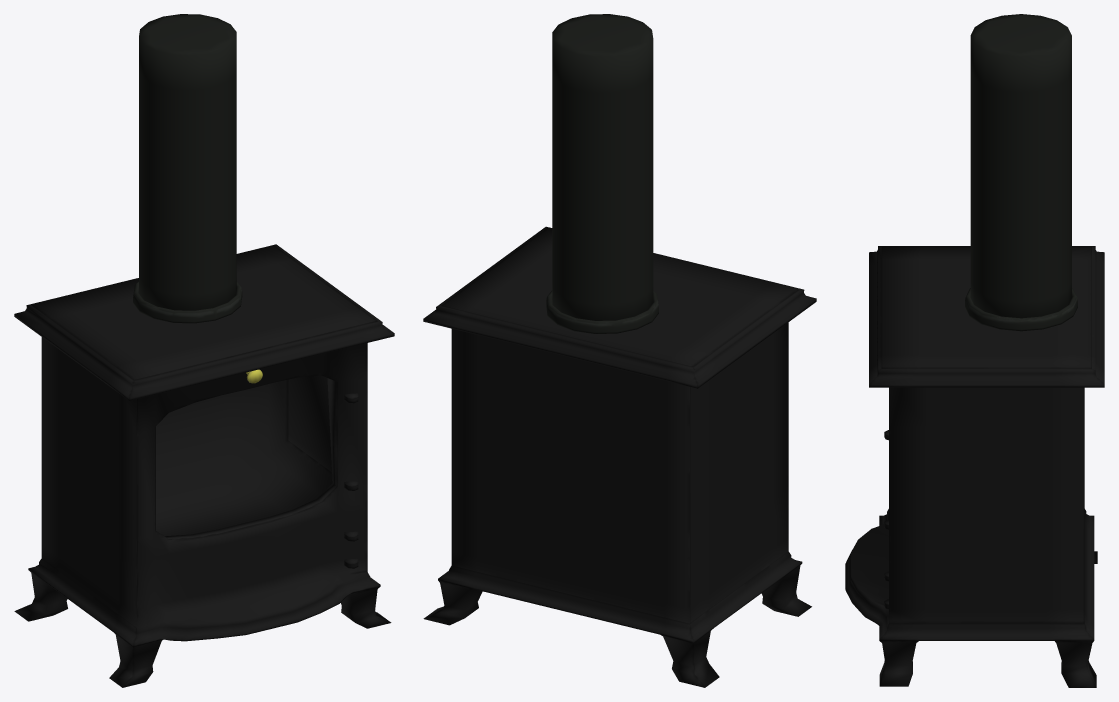
The model's file is wood_stove.565857b311.glb.
The picture shows the model from 3 angles, left to right: view 1: azimuth 30°, elevation 25°; view 2: azimuth 150°, elevation 25°; view 3: azimuth 270°, elevation 25°; orthographic projection. The views are drawn at different scales.
Parts seen in each view (by area): view 1: wood_stove_0, wood_stove_1; view 2: wood_stove_0, wood_stove_1; view 3: wood_stove_0, wood_stove_1.
Part boxes in pixels (x1=…): wood_stove_0: x1=14, y1=244, x2=394, y2=687; wood_stove_1: x1=133, y1=14, x2=242, y2=323; wood_stove_0: x1=423, y1=226, x2=816, y2=687; wood_stove_1: x1=546, y1=14, x2=658, y2=333; wood_stove_0: x1=845, y1=246, x2=1104, y2=687; wood_stove_1: x1=965, y1=14, x2=1077, y2=331.
Size of the model in its own units: 0.6739 by 1.35 by 0.5413.
2 materials, 2 textured.
